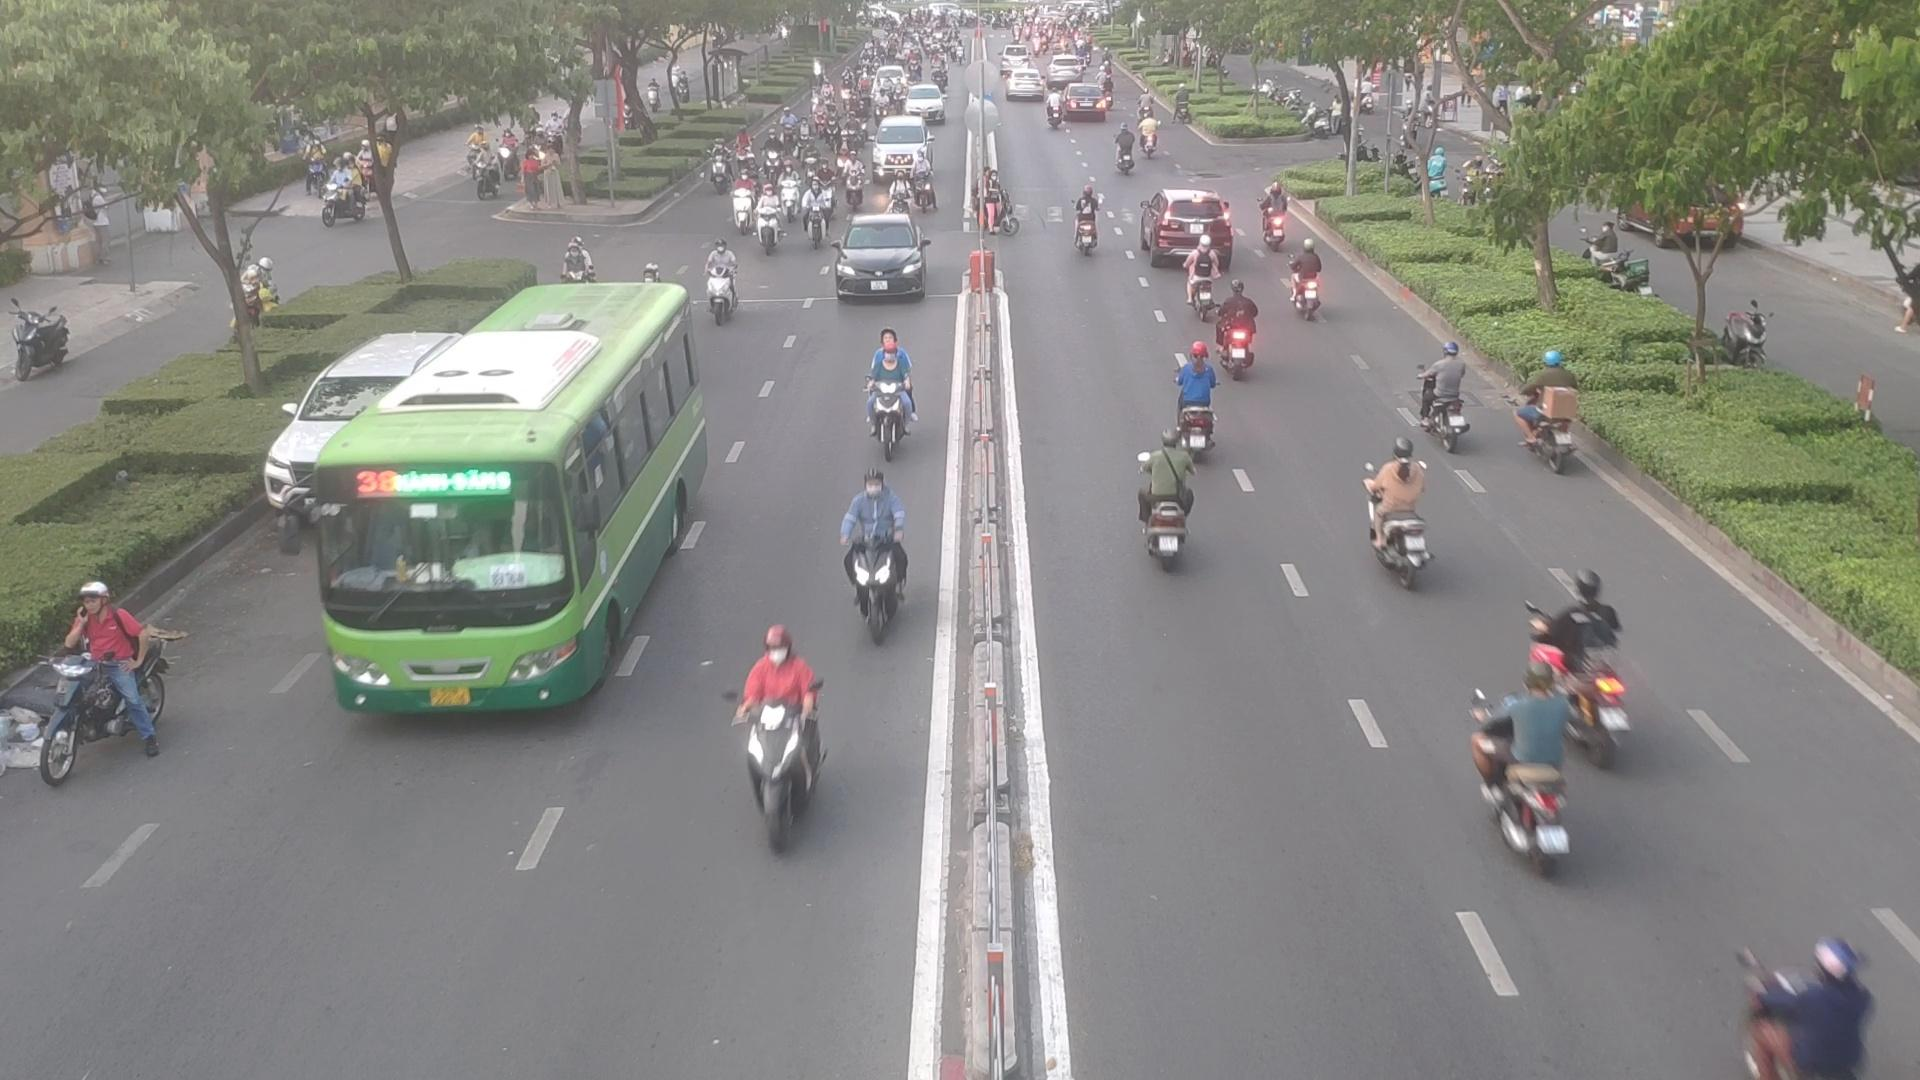bus: (319, 281, 703, 720)
car: (828, 215, 930, 301), (1136, 189, 1233, 267)
motorbike: (1722, 930, 1884, 1079), (31, 587, 170, 757), (1467, 683, 1580, 869), (736, 642, 832, 842), (1531, 577, 1637, 757), (837, 475, 913, 622), (1368, 451, 1446, 588), (1507, 353, 1592, 473), (1128, 436, 1191, 561), (1413, 343, 1482, 442), (855, 336, 916, 446), (1214, 280, 1276, 380), (1177, 339, 1223, 459), (702, 243, 745, 322), (1065, 187, 1107, 257), (1284, 252, 1325, 322), (1257, 190, 1304, 250), (748, 196, 784, 256), (1191, 236, 1216, 314), (1104, 130, 1140, 175), (909, 166, 940, 213), (842, 159, 868, 209), (866, 149, 894, 191)
